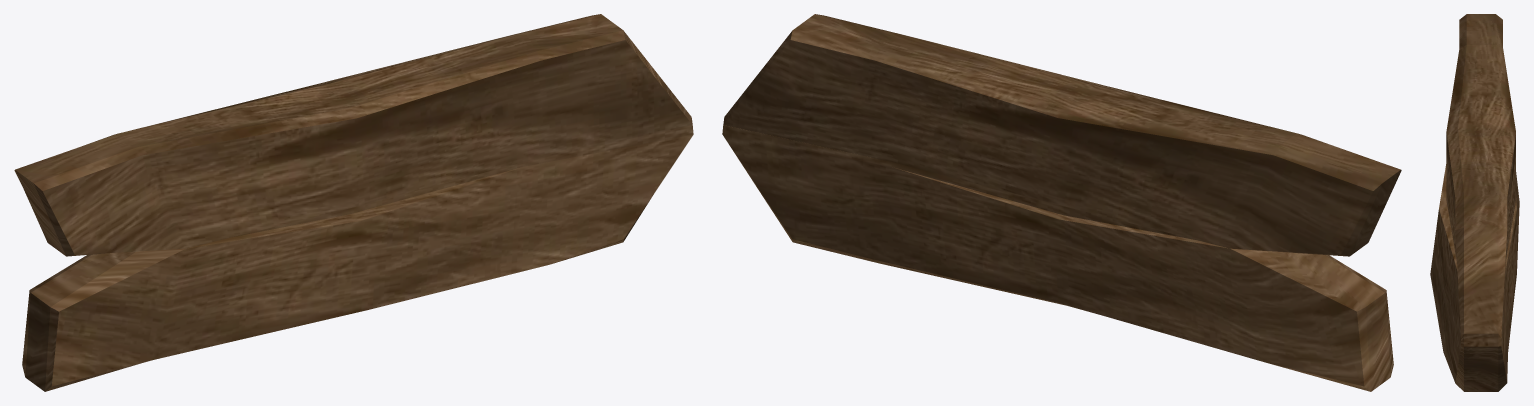
The model's file is pm-sign-arrow-01.glb.
3 renders of one model, left to right at view 1: azimuth 30°, elevation 25°; view 2: azimuth 150°, elevation 25°; view 3: azimuth 270°, elevation 25°, orthographic. The views are drawn at different scales.
Visible parts, largest first — view 1: SignArrow01; view 2: SignArrow01; view 3: SignArrow01.
Boxes of the visible parts, <box> form: SignArrow01: <box>14,14,693,391</box>; SignArrow01: <box>722,14,1401,391</box>; SignArrow01: <box>1430,14,1519,391</box>.
Size of the model in its own units: 0.7718 by 0.2489 by 0.1174.
1 material, 1 textured.
